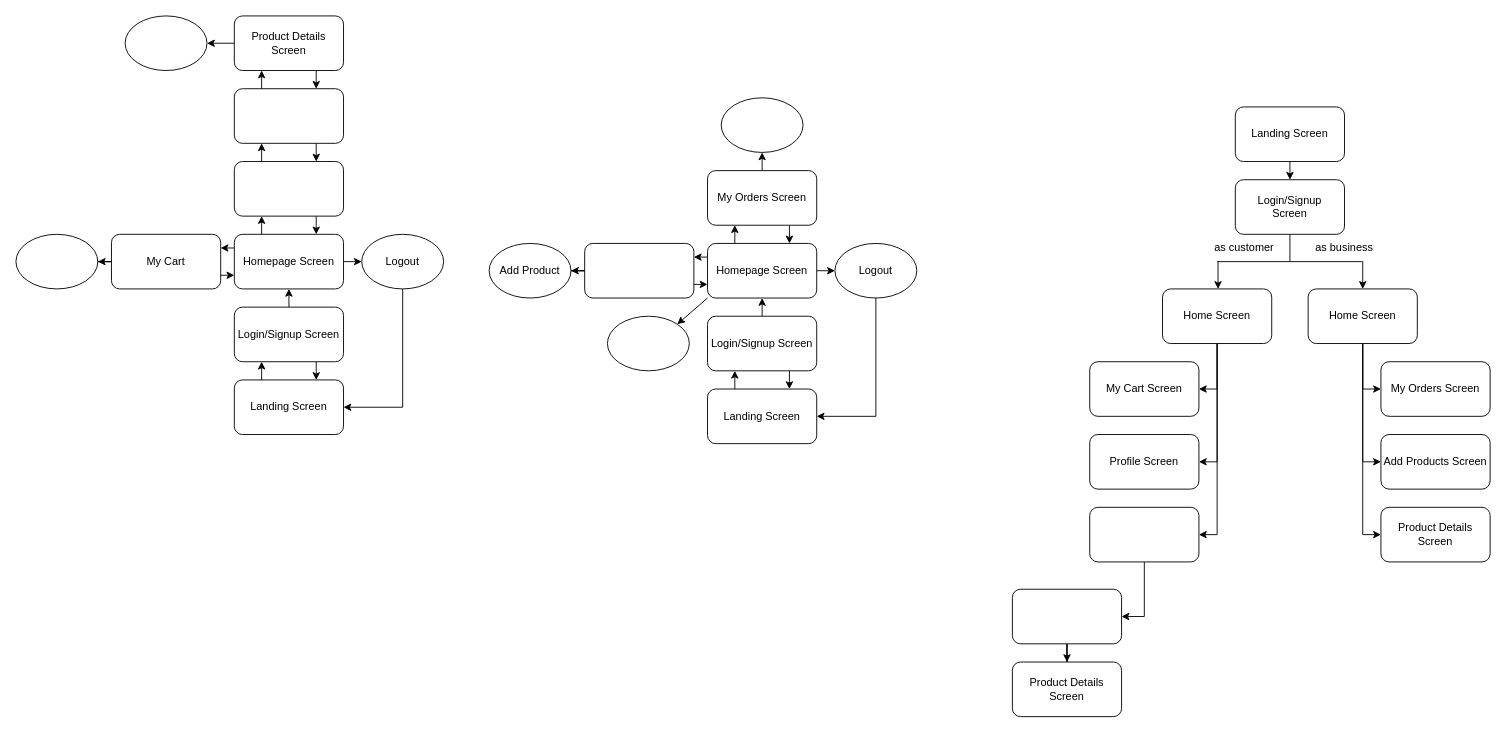
Some shapes in this 1506 by 733 pixel diagram are drawn without their labels. Here are the shapes that lost their labels. From the top down, the centre of each, then its label:
At (x=165, y=43): "Add to Cart".
At (x=288, y=115): "Business Details Screens".
At (x=761, y=124): "Update Order Status".
At (x=288, y=188): "Category-Filtered Businesses Screen".
At (x=56, y=261): "Place Order".
At (x=639, y=270): "Add Product Screen".
At (x=648, y=343): "Edit Business Details".
At (x=1144, y=534): "Category Filtered Businesses Screen".
At (x=1066, y=616): "Business Details Screen".
